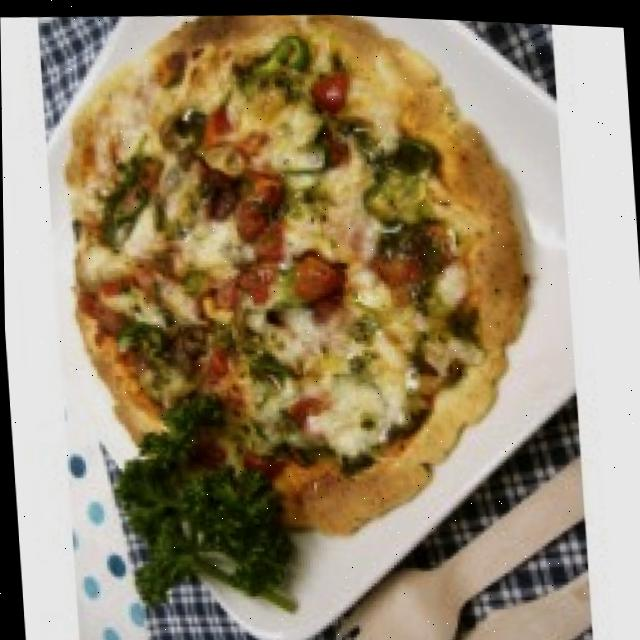汉堡快餐: (49, 2, 533, 548)
